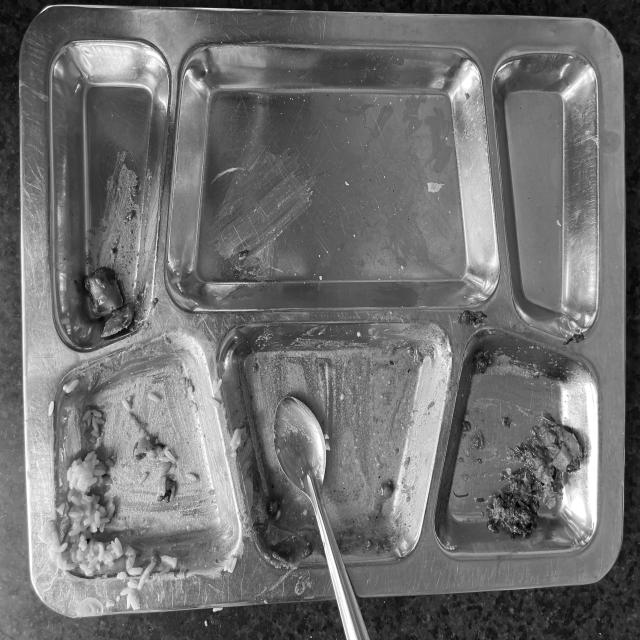0.4- Food Left: (36, 20, 608, 568)
